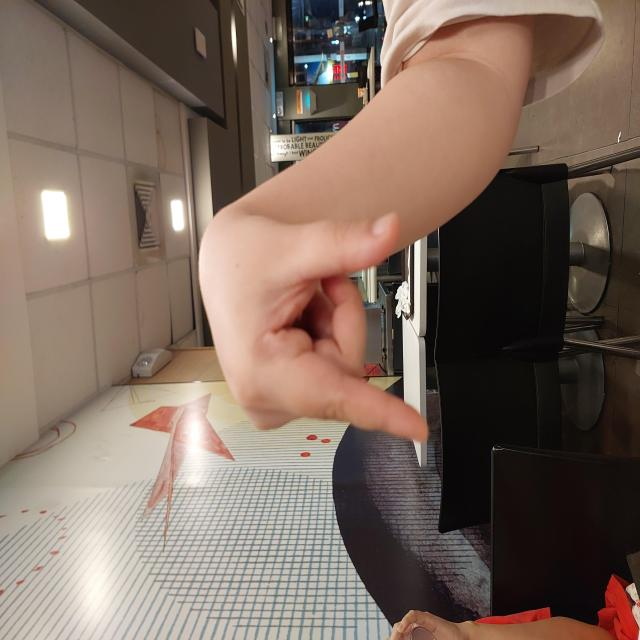Q: (192, 196, 432, 432)
